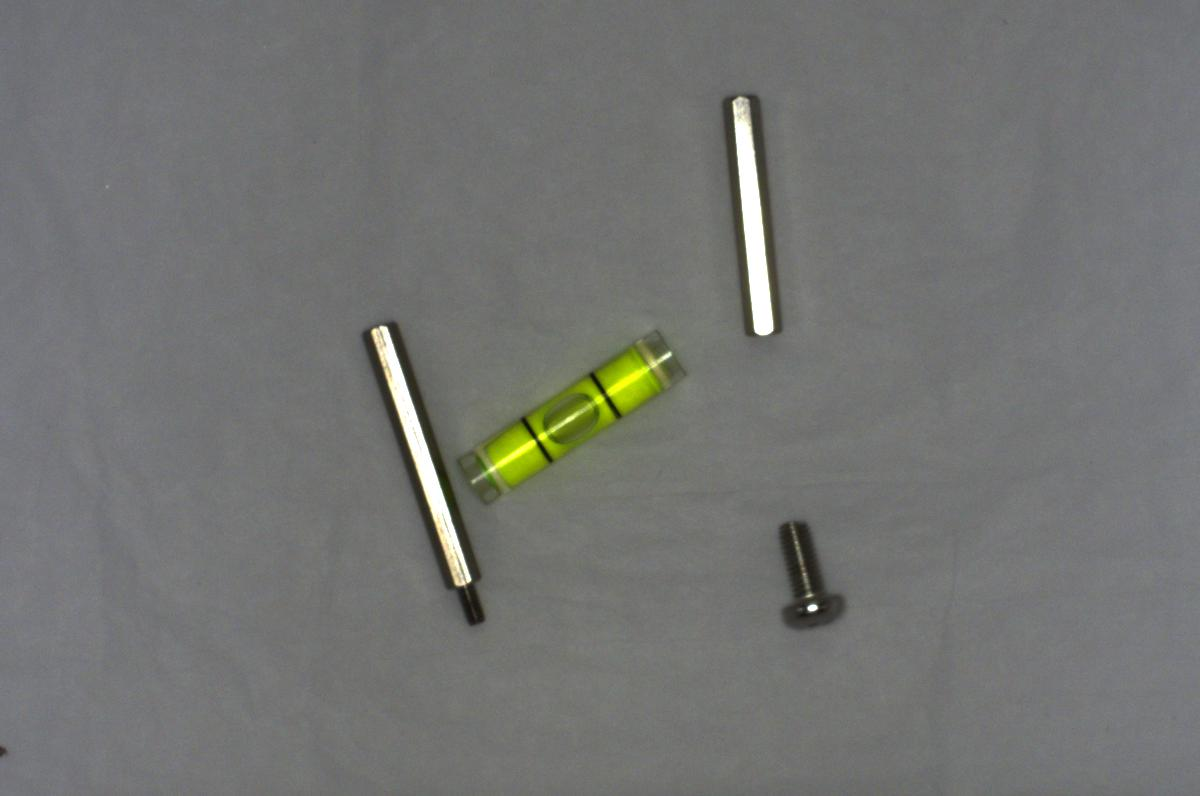Double hexagonal column: (715, 83, 791, 348)
Hexagonal steel column: (360, 316, 497, 628)
Horizontal bubble: (452, 321, 692, 506)
Round head screw: (768, 508, 854, 632)
